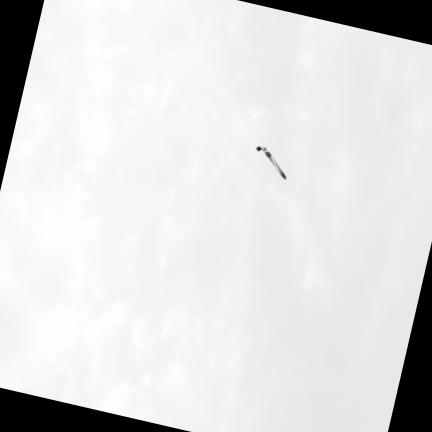Shahed: (257, 146, 286, 178)
